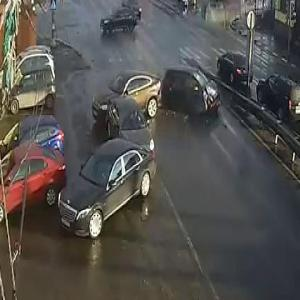significant: (55, 59, 167, 246)
